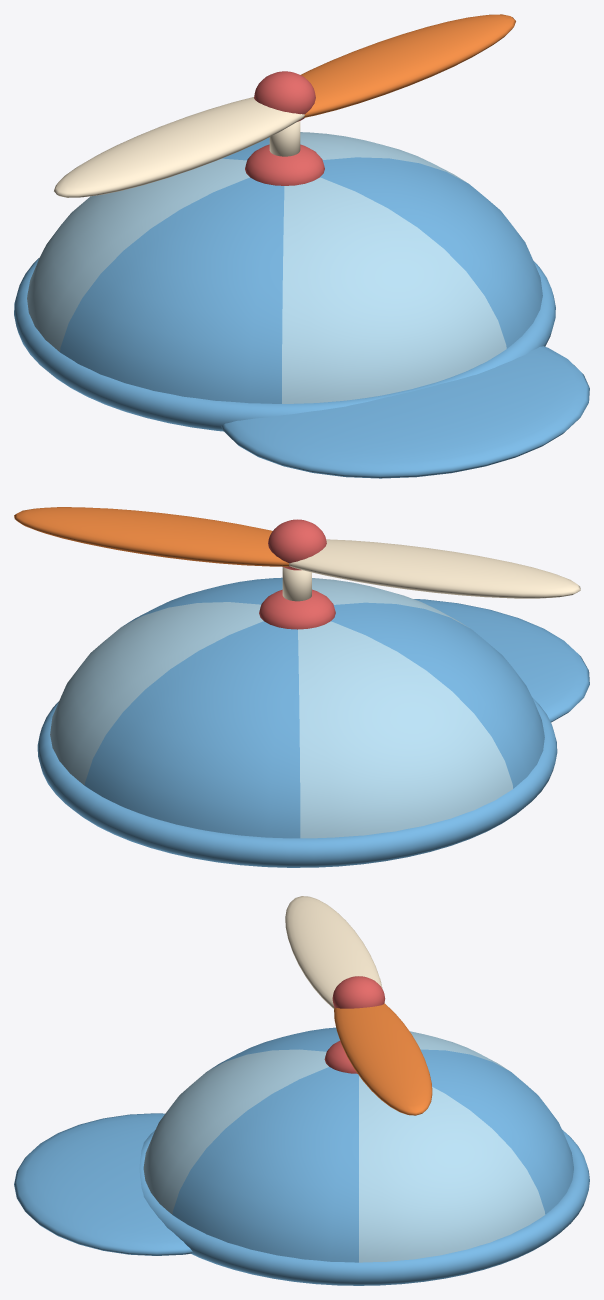
The model's file is propeller-cap.glb.
The picture shows the model from 3 angles, top to bottom: view 1: azimuth 30°, elevation 25°; view 2: azimuth 150°, elevation 25°; view 3: azimuth 270°, elevation 25°; orthographic projection. The views are drawn at different scales.
Parts seen in each view (by area): view 1: BLIP_Hat_PropellerCap; view 2: BLIP_Hat_PropellerCap; view 3: BLIP_Hat_PropellerCap.
Boxes of the visible parts, x1,y1,x2,y2 form: BLIP_Hat_PropellerCap: [14, 14, 589, 478]; BLIP_Hat_PropellerCap: [14, 507, 589, 867]; BLIP_Hat_PropellerCap: [14, 896, 589, 1285].
Bounding box in the file's own units: 1.66 × 0.788 × 1.85.
